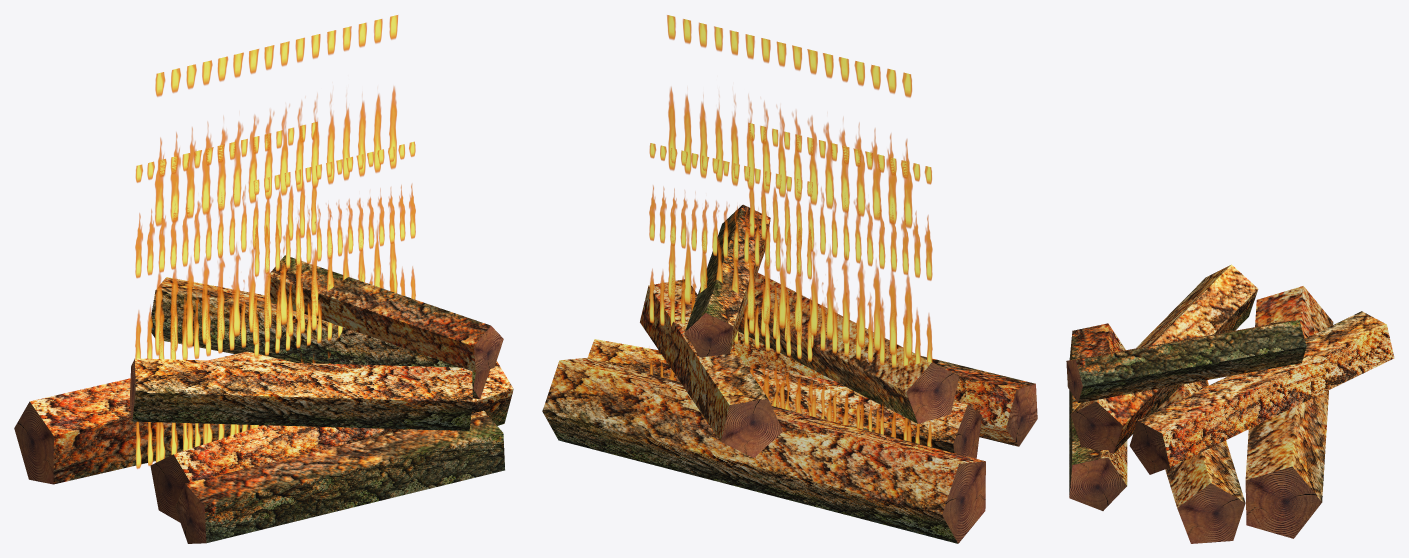
The model's file is mm9_deco_logsburning.glb.
The picture shows the model from 3 angles, left to right: view 1: azimuth 30°, elevation 25°; view 2: azimuth 150°, elevation 25°; view 3: azimuth 270°, elevation 25°; orthographic projection. The views are drawn at different scales.
Visible parts, largest first — view 1: Logsburning; view 2: Logsburning; view 3: Logsburning.
Boxes of the visible parts, x1,y1,x2,y2 form: Logsburning: (14, 15, 513, 543); Logsburning: (542, 15, 1037, 543); Logsburning: (1066, 264, 1394, 543).
Size of the model in its own units: 1.37 by 1.3 by 1.02.
2 materials, 2 textured.
